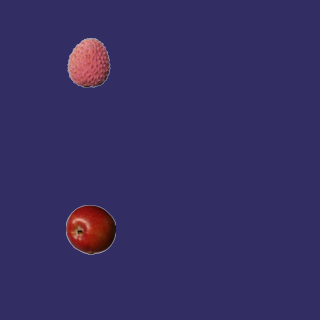Apple Braeburn: (65, 204, 115, 254)
Lychee: (63, 37, 113, 87)
